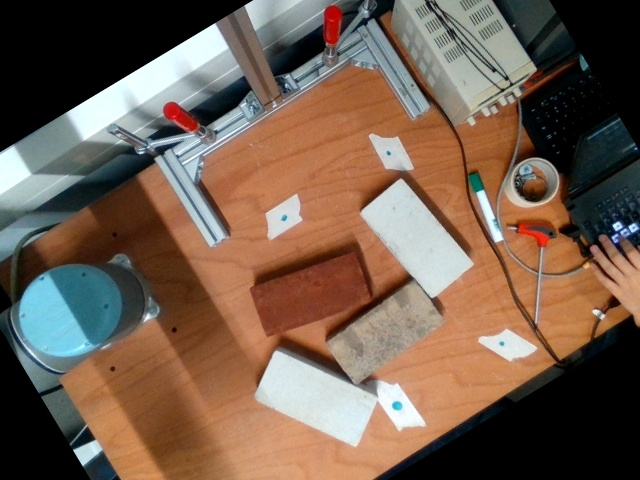brick: (362, 179, 474, 299), (327, 281, 446, 386), (255, 353, 376, 446), (251, 252, 371, 337)
